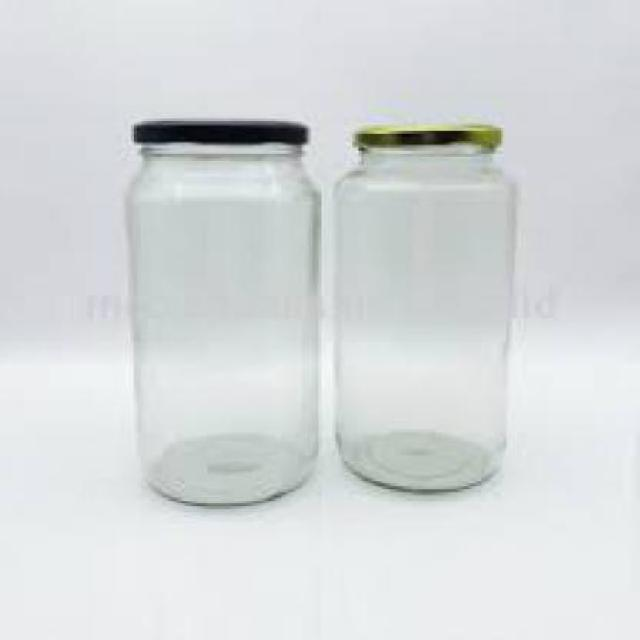GLASS: (128, 139, 328, 501), (341, 145, 517, 492)
METAL: (134, 117, 309, 141), (359, 123, 506, 148)
